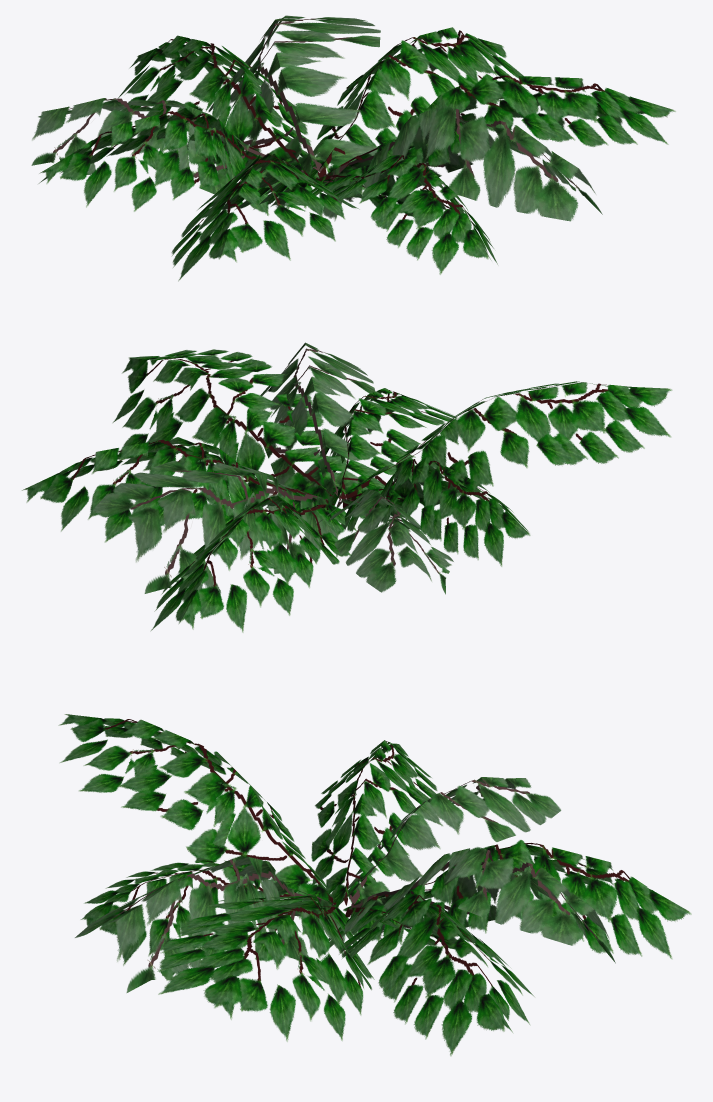
The model's file is bush3.glb.
The picture shows the model from 3 angles, top to bottom: view 1: azimuth 30°, elevation 25°; view 2: azimuth 150°, elevation 25°; view 3: azimuth 270°, elevation 25°; orthographic projection. The views are drawn at different scales.
Visible parts, largest first — view 1: Empty.004; view 2: Empty.004; view 3: Empty.004.
Part boxes in pixels (bbox=[...]): Empty.004: bbox=[31, 15, 675, 281]; Empty.004: bbox=[22, 342, 672, 632]; Empty.004: bbox=[58, 714, 691, 1056].
Size of the model in its own units: 3.62 by 0.9822 by 3.68.
2 materials, 2 textured.
